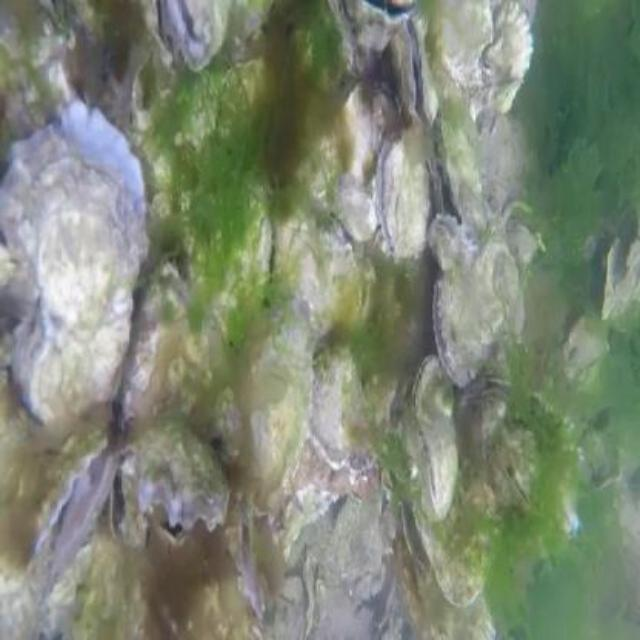Oyster-Closed: (0, 103, 150, 427), (395, 394, 496, 607), (220, 300, 313, 503), (434, 224, 518, 391), (270, 26, 340, 182), (273, 212, 359, 338), (309, 347, 377, 472), (411, 352, 459, 521), (439, 108, 490, 237), (466, 3, 533, 91), (215, 61, 278, 145), (431, 0, 491, 77), (496, 430, 540, 507), (141, 0, 172, 67), (431, 213, 464, 268)
Oyster-Open: (122, 417, 228, 528), (35, 428, 117, 566), (376, 132, 431, 260), (391, 17, 437, 125), (603, 209, 638, 332), (164, 0, 223, 67), (345, 0, 414, 47), (110, 471, 141, 541)
